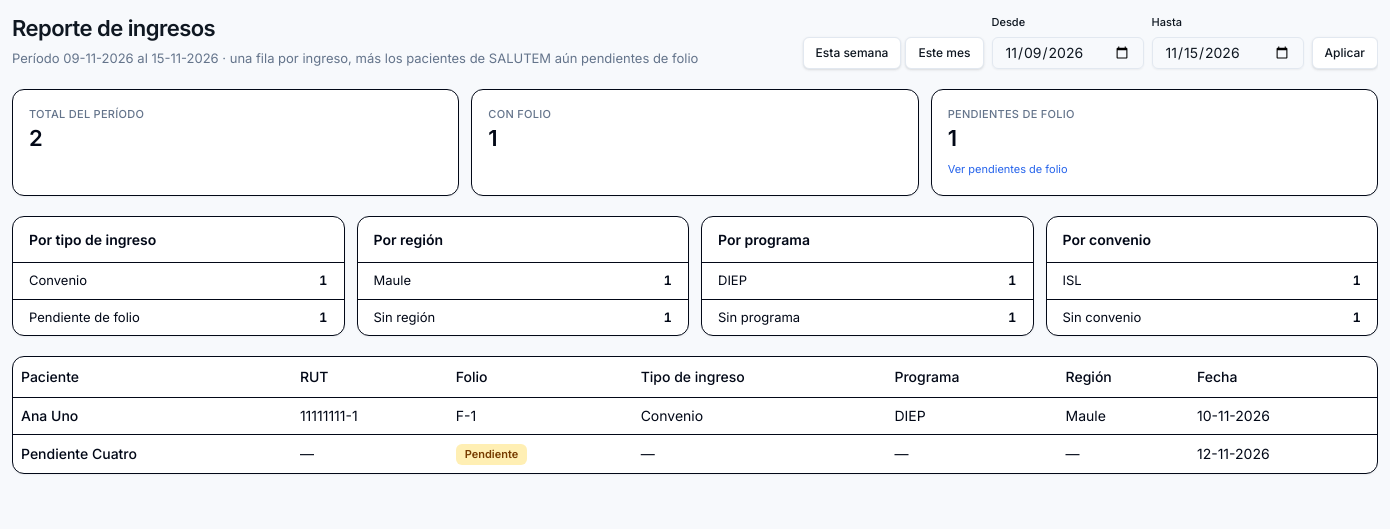
it: ReporteIngresosPage › rango invertido deshabilita Aplicar
This screenshot has width=1390, height=529.
Check: the text "Ana Uno" is shown, box [13, 397, 292, 434]
In the date field labelled "Hasta": (1228, 52) [1152, 36, 1304, 68], type "2026-11-01"
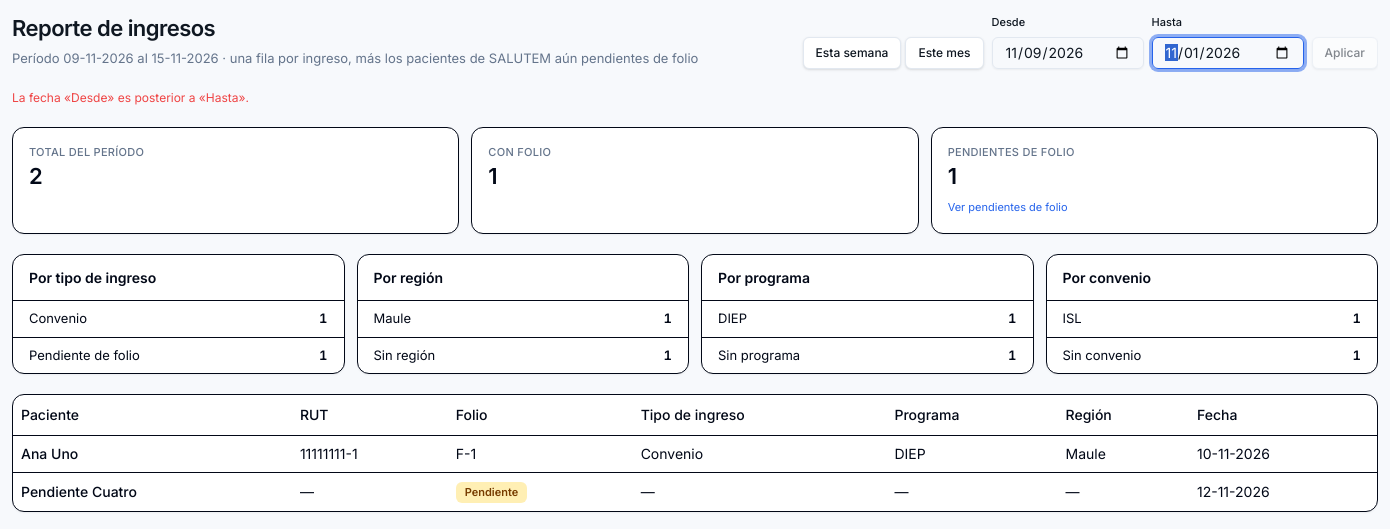
Check: the button with test id "btn-aplicar" is disabled, box [1312, 36, 1378, 68]
Check: the text "La fecha «Desde» es posterior a «Hasta»." is shown, box [12, 90, 249, 104]
